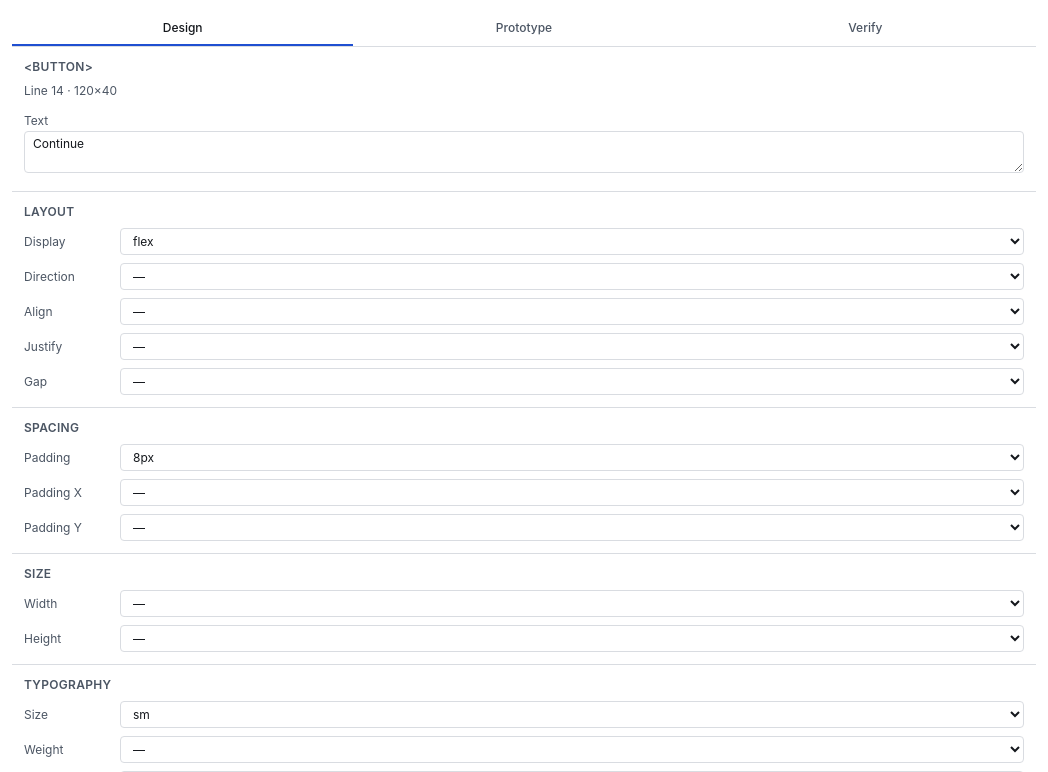
RightPanel verify tab › shows a running state
What coordinates should you click on to do the following:
click the tab "Verify"
I would click on:
 (865, 29)
Its box is [695, 12, 1036, 46].
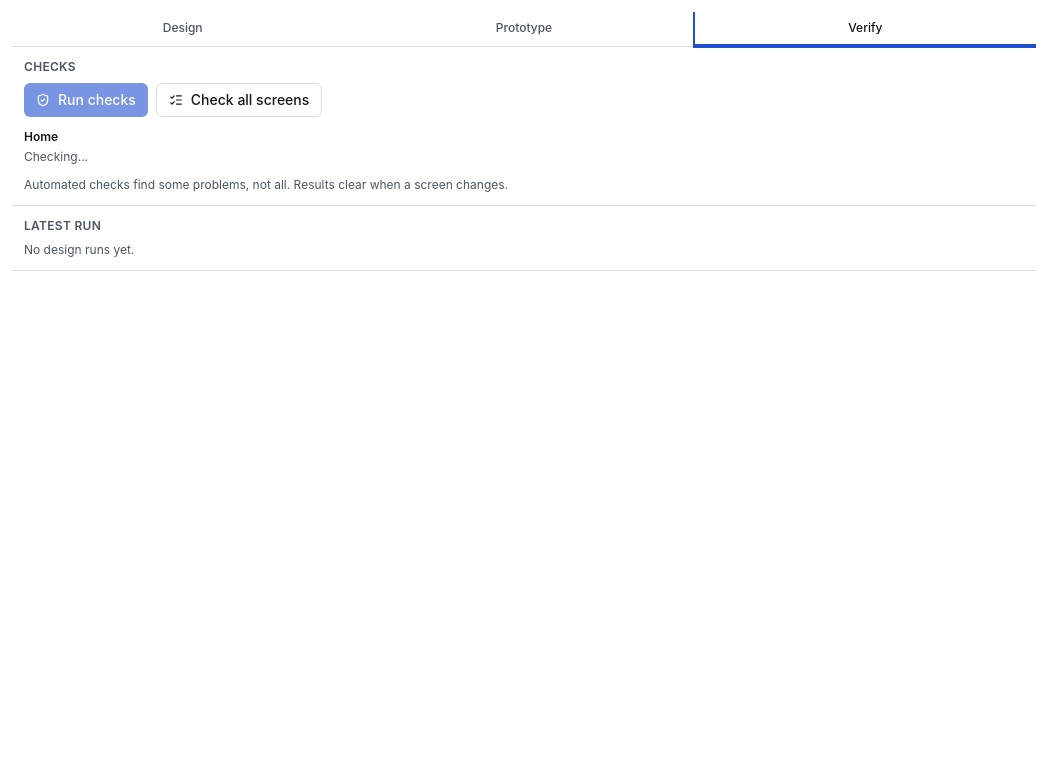
Result: the message reads "Checking…" at [24, 149, 88, 164]
Result: the button "Run checks" is disabled at [24, 83, 148, 117]
